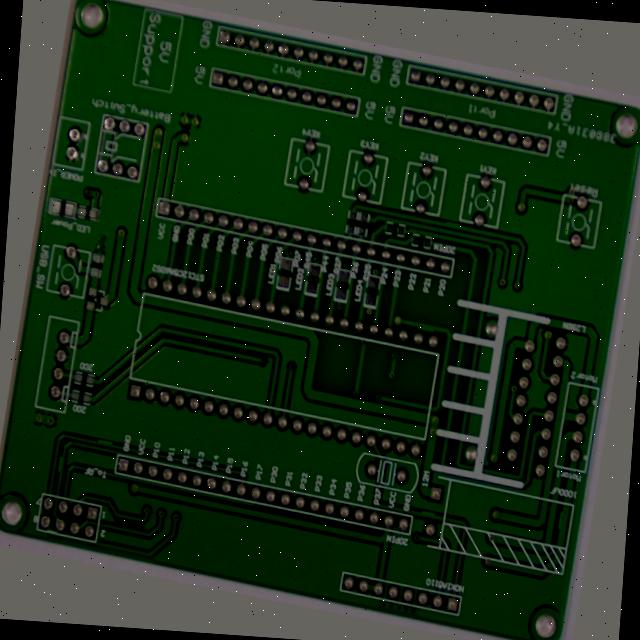spur: (420, 300, 446, 321), (86, 476, 112, 494), (45, 503, 59, 532), (440, 510, 463, 526), (442, 185, 463, 198)
